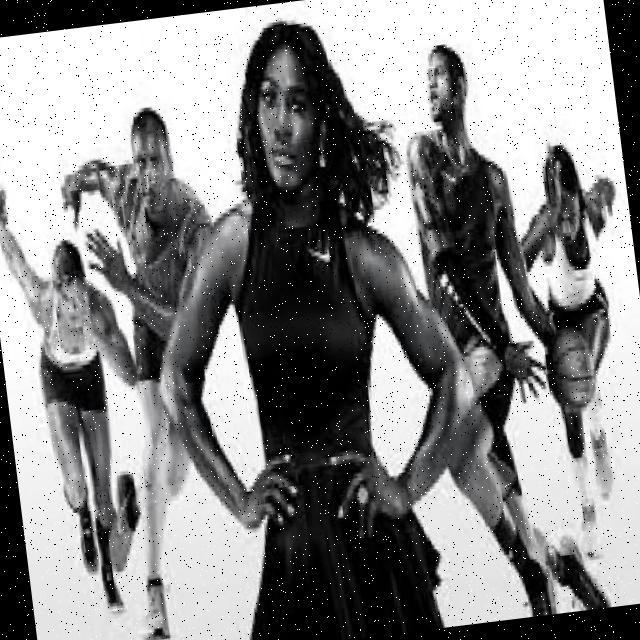Nike: (305, 238, 336, 264)
